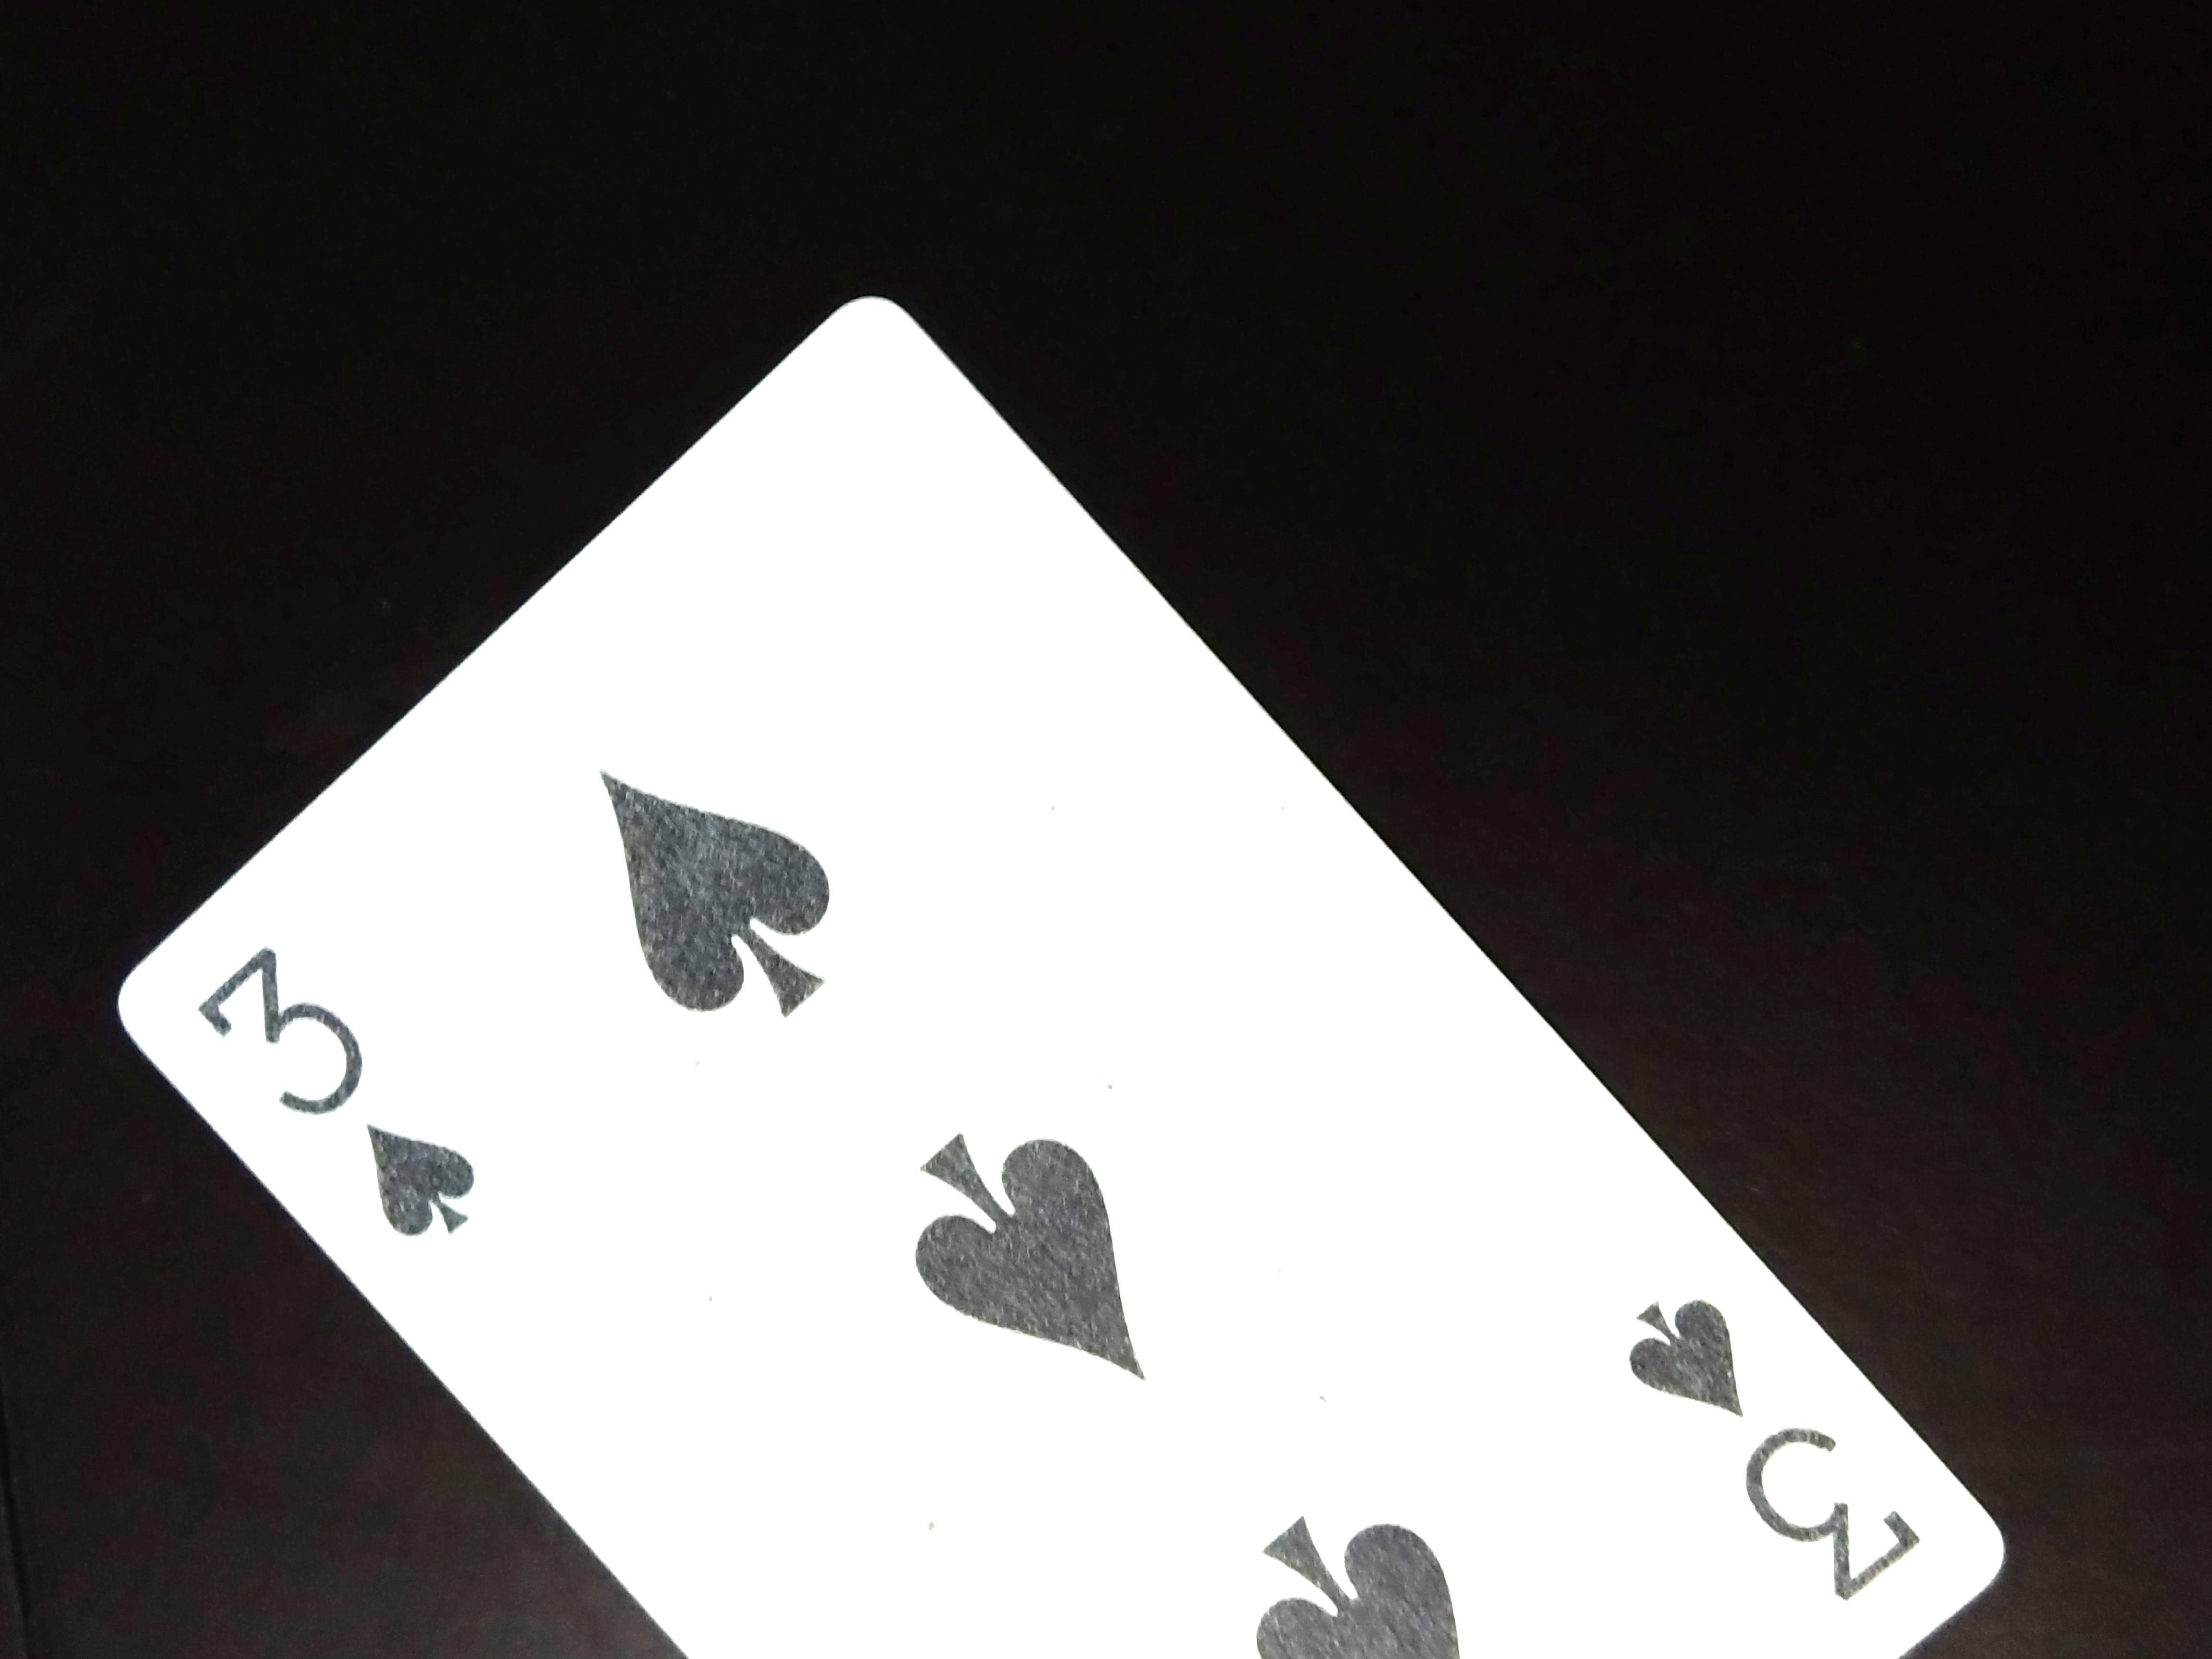3S: (186, 929, 491, 1272)
